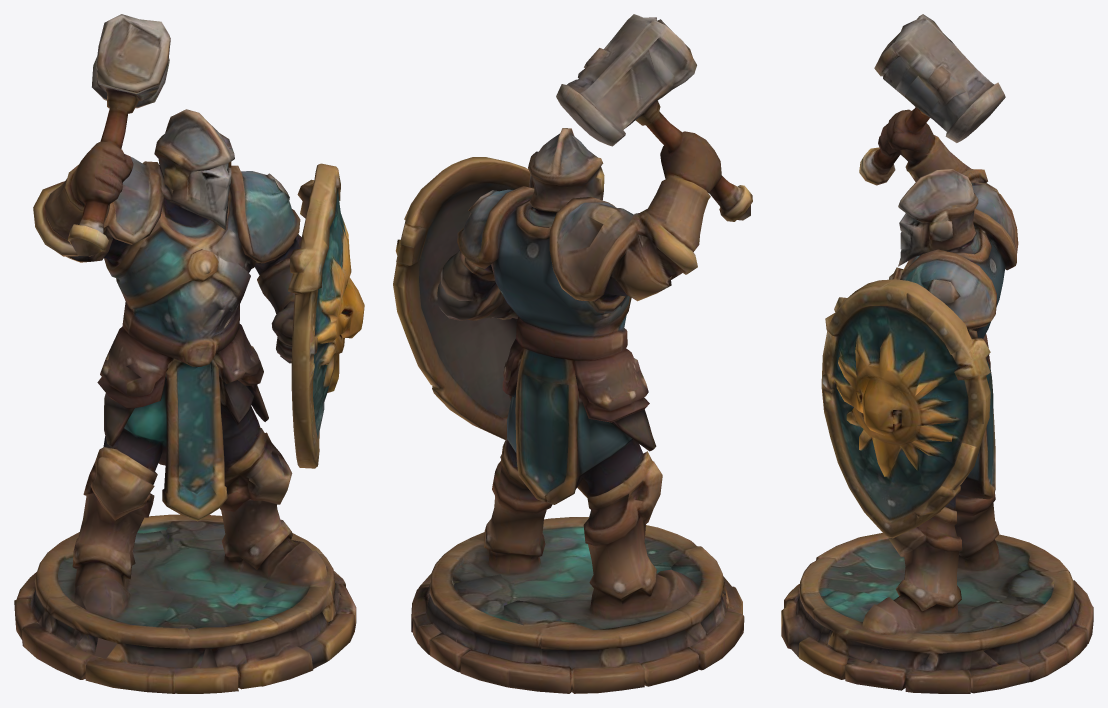
3 renders of one model, left to right at view 1: azimuth 30°, elevation 25°; view 2: azimuth 150°, elevation 25°; view 3: azimuth 270°, elevation 25°, orthographic. The views are drawn at different scales.
Parts seen in each view (by area): view 1: tripo_node_de18391e-f267-4476-a860-8b7ad4c6c105; view 2: tripo_node_de18391e-f267-4476-a860-8b7ad4c6c105; view 3: tripo_node_de18391e-f267-4476-a860-8b7ad4c6c105.
Part boxes in pixels (x1=…): tripo_node_de18391e-f267-4476-a860-8b7ad4c6c105: x1=14, y1=14, x2=364, y2=693; tripo_node_de18391e-f267-4476-a860-8b7ad4c6c105: x1=393, y1=14, x2=752, y2=693; tripo_node_de18391e-f267-4476-a860-8b7ad4c6c105: x1=781, y1=14, x2=1093, y2=693.
Size of the model in its own units: 0.5225 by 1 by 0.4873.
1 material, 1 textured.
